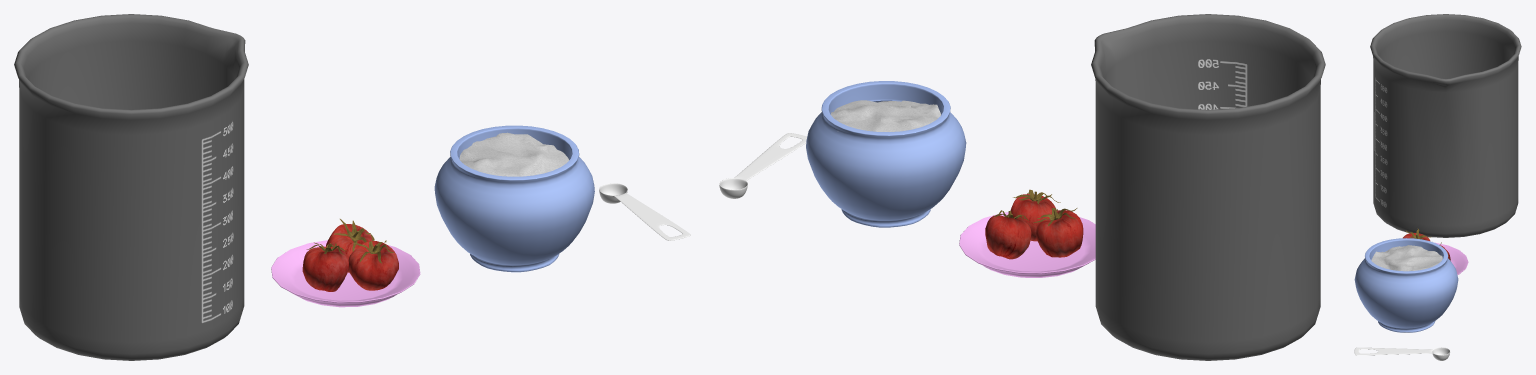
File: Beaker_scene.gltf
3 views of the same model, side by side, from view 1: azimuth 30°, elevation 25°; view 2: azimuth 150°, elevation 25°; view 3: azimuth 270°, elevation 25° (orthographic). The views are drawn at different scales.
Visible parts, largest first — view 1: Beaker_a, Sugarbowl, Dish, Cherry_tomato2, Cherry_tomato1, spoon_005_mesh, Cherry_tomato; view 2: Beaker_a, Sugarbowl, Dish, Cherry_tomato1, Cherry_tomato, spoon_005_mesh, Cherry_tomato2; view 3: Beaker_a, Sugarbowl, spoon_005_mesh, Dish, Cherry_tomato1.
Boxes of the visible parts, x1,y1,x2,y2 form: Beaker_a: [14, 14, 248, 360]; Sugarbowl: [434, 125, 594, 272]; Dish: [271, 240, 420, 307]; Cherry_tomato2: [348, 234, 398, 290]; Cherry_tomato1: [302, 242, 348, 291]; spoon_005_mesh: [599, 183, 690, 240]; Cherry_tomato: [326, 219, 372, 272]; Beaker_a: [1091, 14, 1325, 360]; Sugarbowl: [806, 81, 966, 227]; Dish: [959, 212, 1095, 277]; Cherry_tomato1: [1033, 208, 1083, 257]; Cherry_tomato: [985, 210, 1031, 259]; spoon_005_mesh: [719, 133, 806, 198]; Cherry_tomato2: [1010, 189, 1060, 241]; Beaker_a: [1370, 14, 1521, 237]; Sugarbowl: [1354, 238, 1458, 332]; spoon_005_mesh: [1354, 347, 1450, 360]; Dish: [1435, 242, 1468, 274]; Cherry_tomato1: [1403, 228, 1430, 240].
Bounding box in the file's own units: 0.4461 × 0.1843 × 0.169.
Materials: 5 (3 with a texture image).
